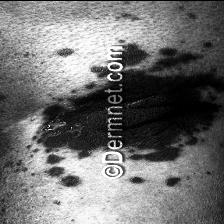Non-Cancerous Skin Condition: (123, 18, 224, 194), (28, 36, 102, 201)
